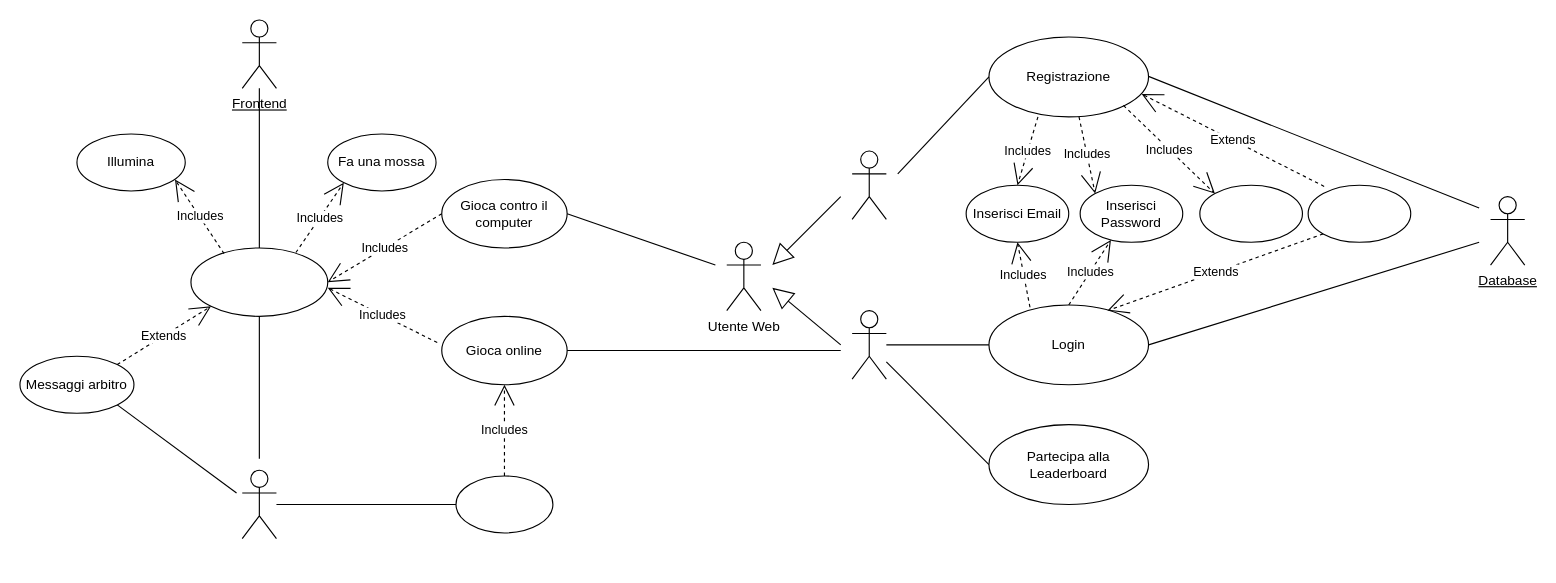
Image size: 1556x583. Some labels were removed from this diagram. Each missing label, with the centre of its shape:
"Backend" belongs at (258,504).
"Cercare un giocatore" belongs at (504,504).
"Google Login" belongs at (1359,213).
"Inserisci Username" belongs at (1250,213).
"Usa scacchiera" belongs at (259,281).
"Utente non registrato" belongs at (868,184).
"Utente registrato" belongs at (868,344).
